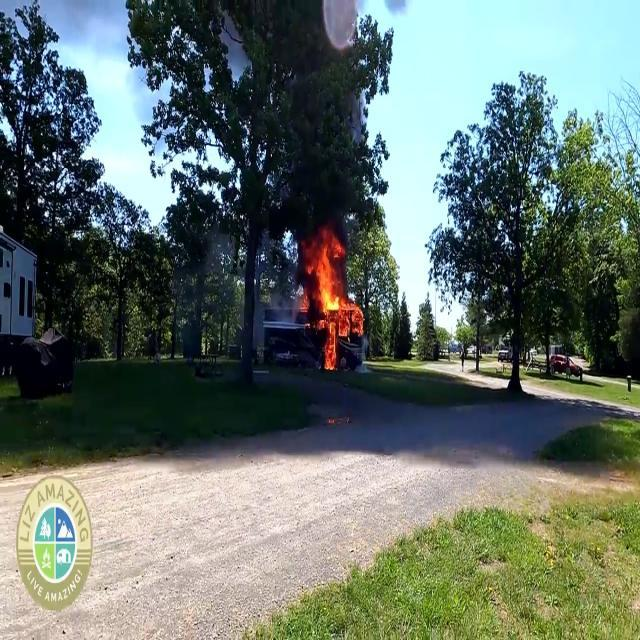Fire: (310, 230, 360, 368)
Smoke: (264, 2, 389, 236)
